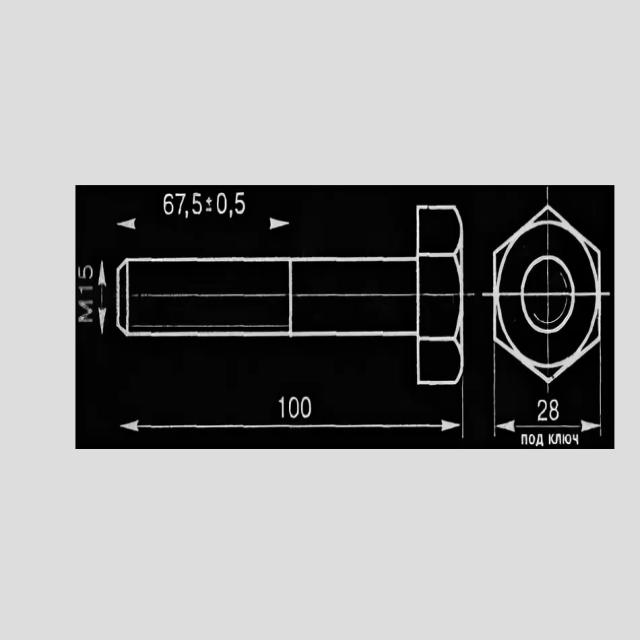marking_line: (119, 388, 468, 442), (491, 386, 605, 435), (116, 218, 293, 233), (491, 351, 504, 442), (95, 260, 110, 337), (593, 348, 602, 438)
numeric: (300, 393, 313, 420), (77, 265, 95, 283), (163, 192, 175, 217), (215, 193, 228, 216), (235, 189, 246, 216), (175, 193, 186, 217), (192, 192, 203, 216), (288, 396, 300, 417), (79, 283, 96, 294), (278, 395, 285, 420)
special_symbol: (206, 195, 213, 213), (228, 209, 234, 219), (186, 211, 190, 218)
